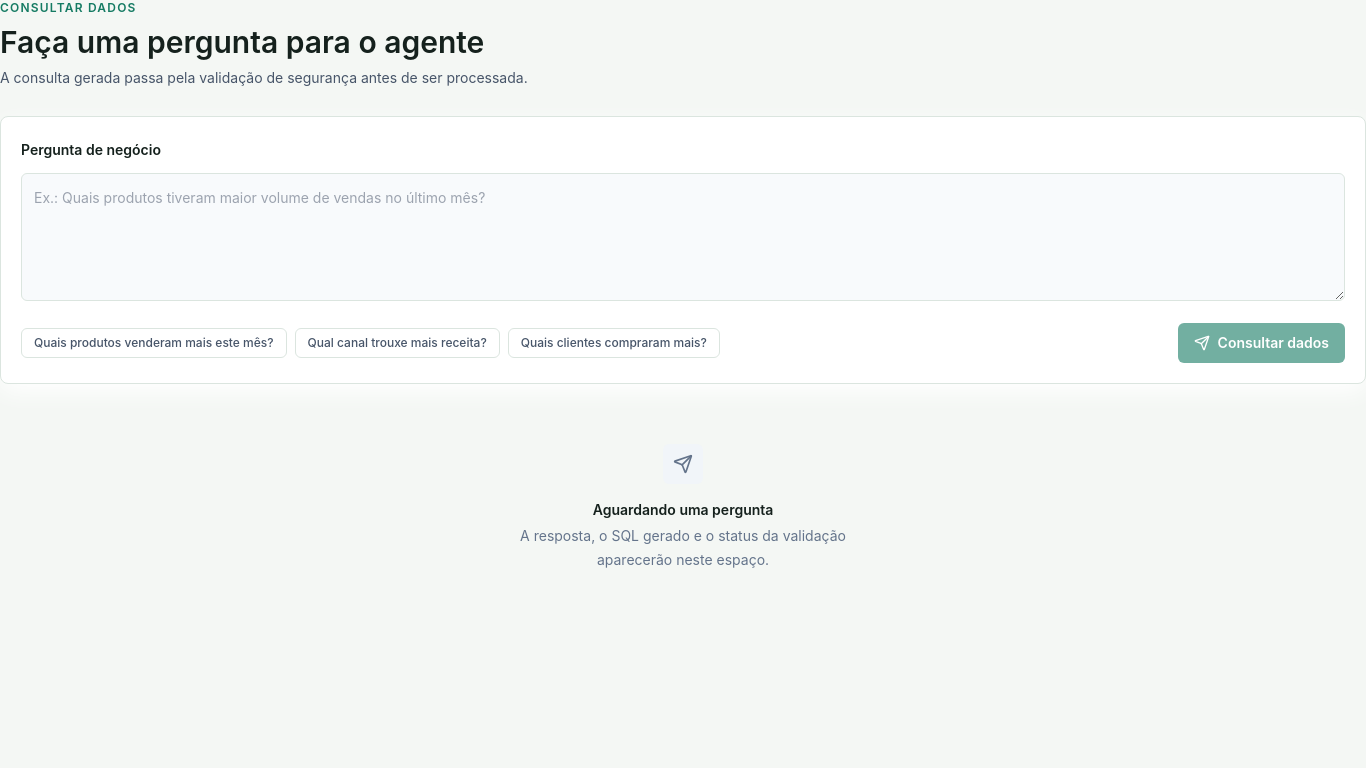
Test: AskDataPage › registers feedback for the returned query
Step 1. Type "Quais produtos venderam mais?" into the text box labelled "Pergunta de negócio" → (683, 237), box [21,173,1345,301]
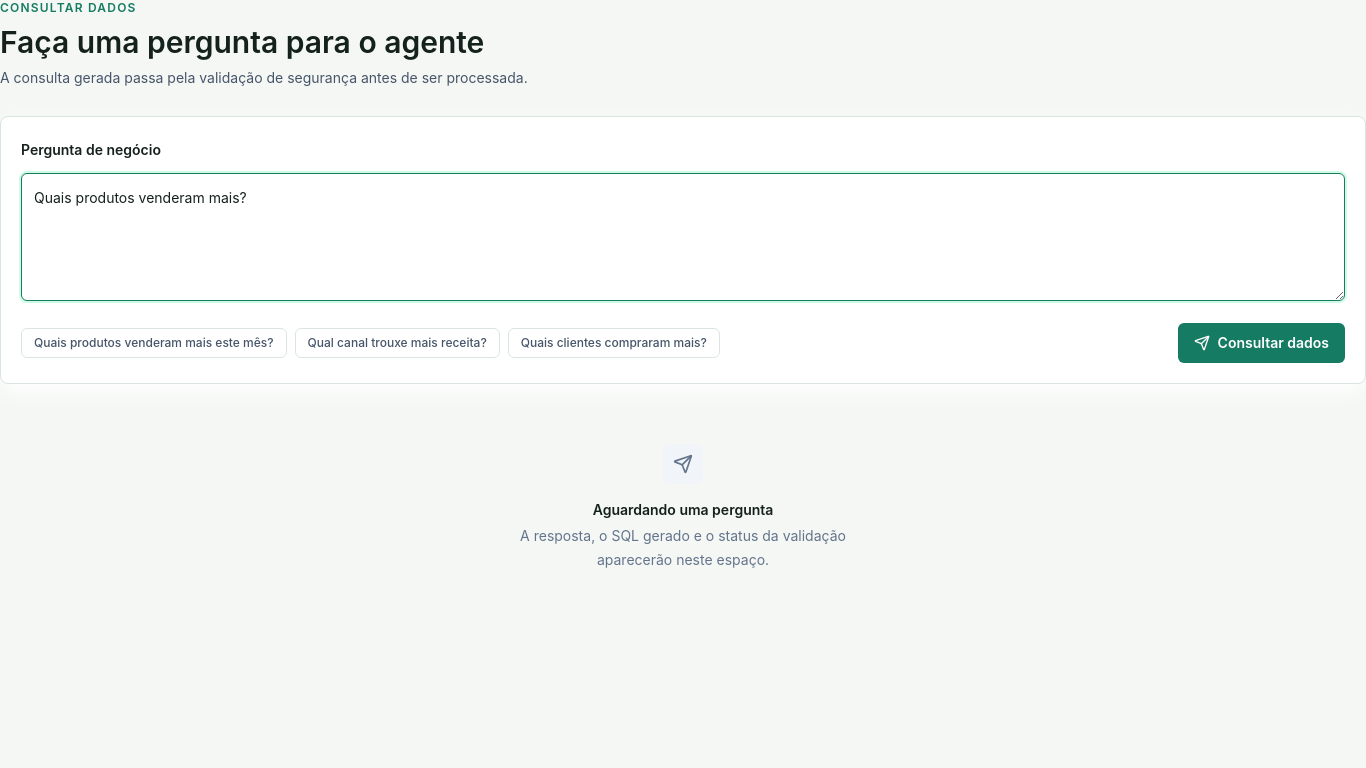
Step 2. Click the button "Consultar dados" → (1261, 343), box [1178,323,1345,363]
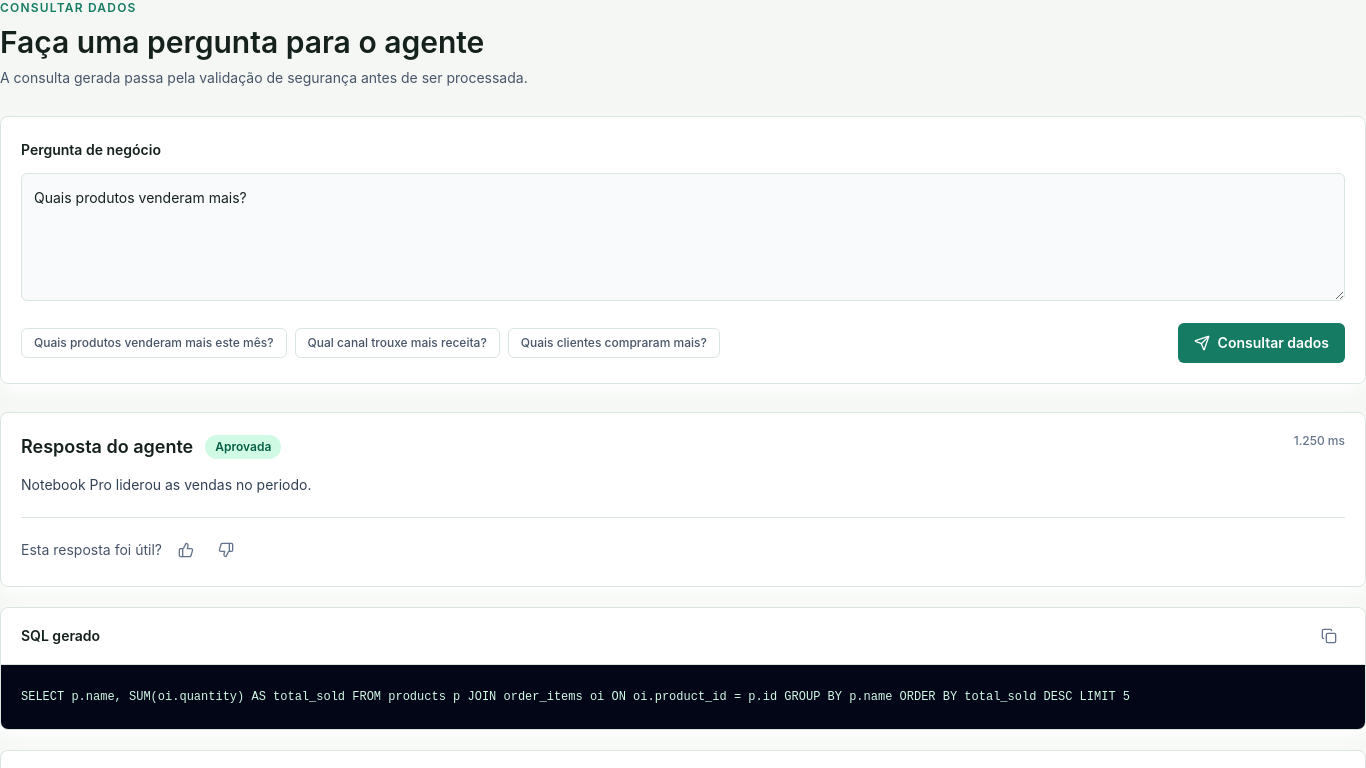
expect the text "Notebook Pro liderou as vendas no periodo." is shown: met, box [21,473,312,497]
Step 3. Click the button named "Resposta útil" → (186, 550), box [170,534,202,566]
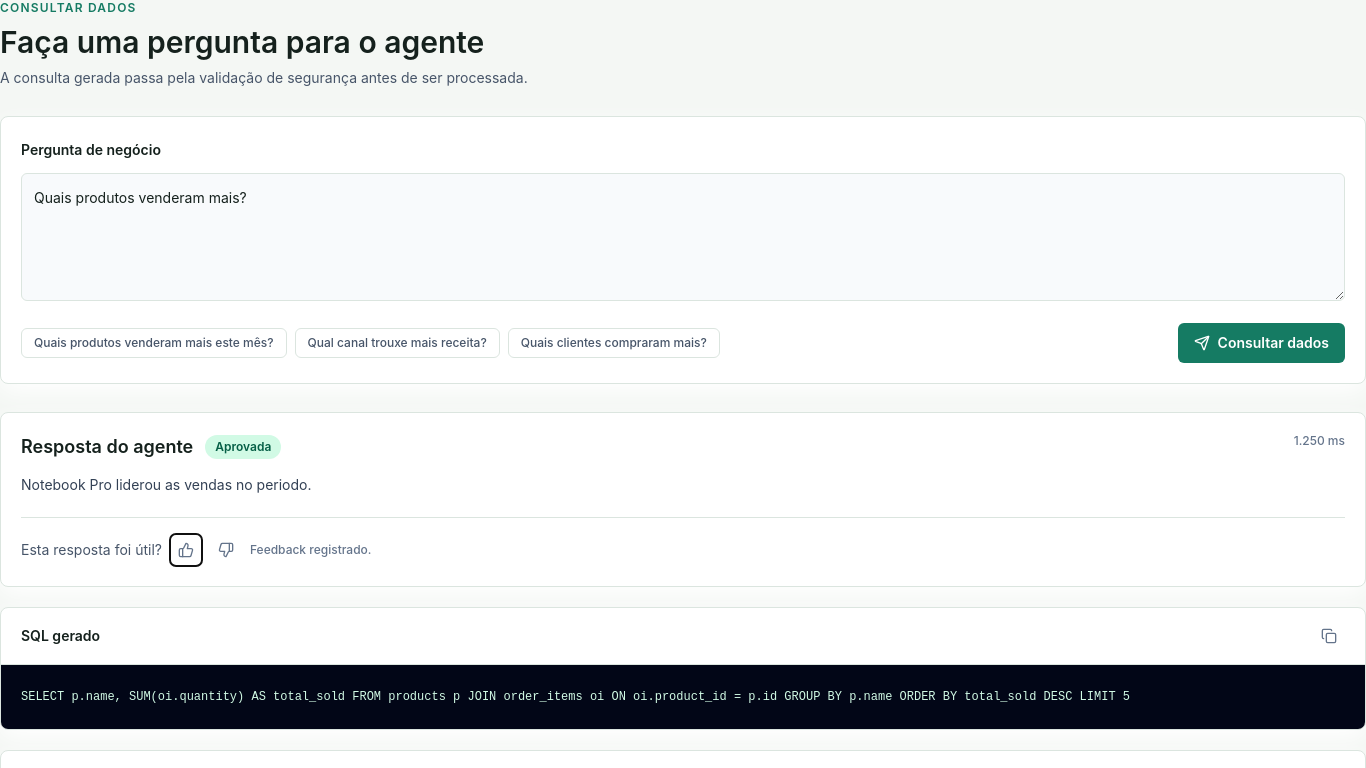
expect the text "Feedback registrado." is shown: met, box [250,542,371,558]
